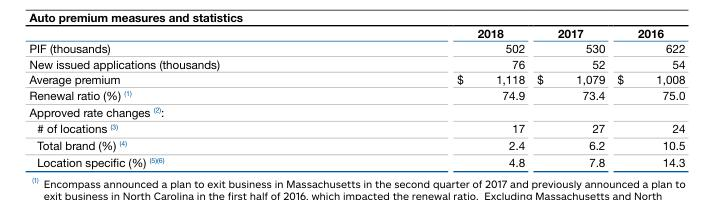table: (28, 28, 684, 169)
table column: (28, 28, 337, 169), (337, 28, 530, 169), (530, 28, 610, 169), (610, 28, 684, 169)
table column header: (28, 28, 684, 42)
table projected row header: (28, 104, 684, 121)
table row: (28, 104, 684, 121), (28, 137, 684, 154), (28, 57, 684, 73), (28, 88, 684, 104), (28, 121, 684, 137), (28, 42, 684, 57), (28, 73, 684, 88), (28, 154, 684, 169), (28, 28, 684, 42)
